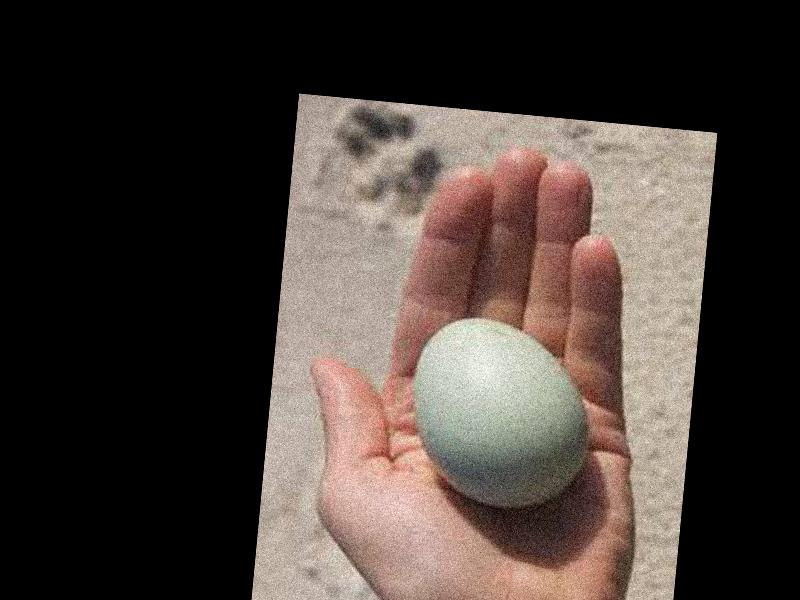Eggs: (405, 310, 597, 510)
